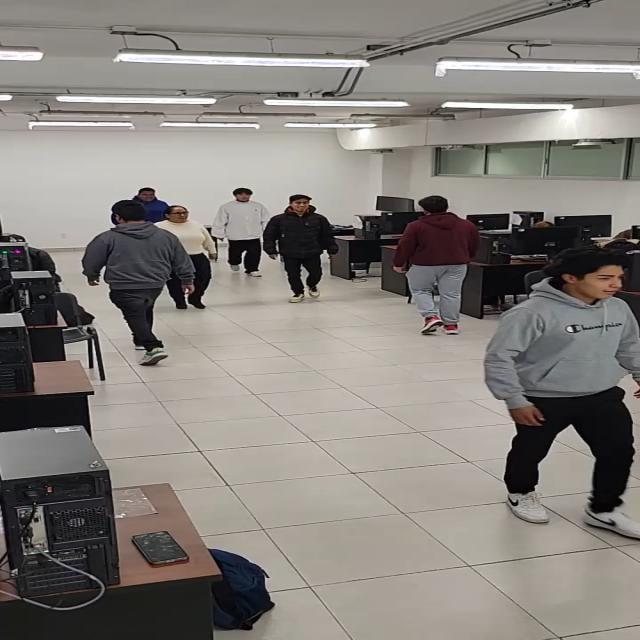Persona: (487, 252, 638, 540), (86, 199, 180, 365), (396, 194, 474, 336), (264, 194, 334, 302), (162, 203, 210, 306), (214, 188, 262, 280), (125, 188, 168, 220)
